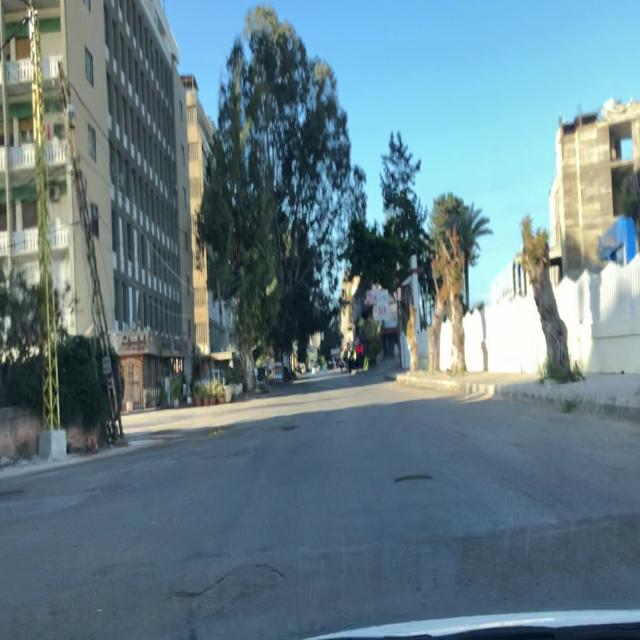Pothole: (389, 470, 435, 491), (281, 423, 300, 432)
